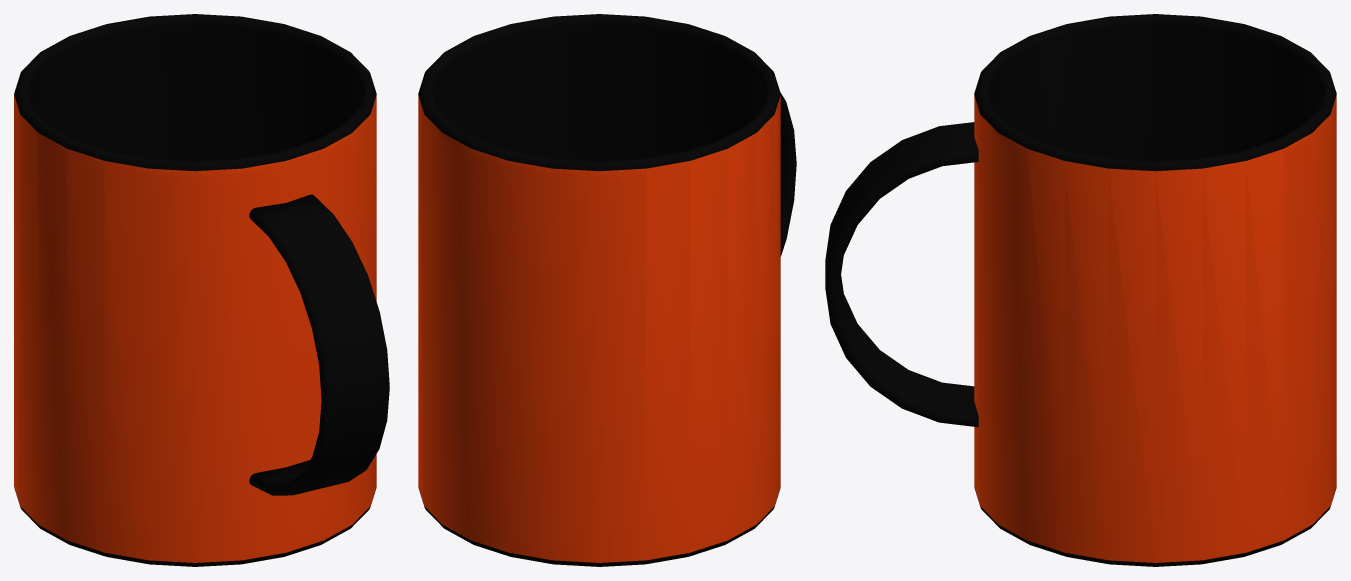
Rendered from mug_07_origin_gt_7.dae.
3 views of the same model, side by side, from view 1: azimuth 30°, elevation 25°; view 2: azimuth 150°, elevation 25°; view 3: azimuth 270°, elevation 25° (orthographic).
Parts seen in each view (by area): view 1: group_2 (×3), group_1; view 2: group_2 (×3), group_1; view 3: group_2 (×3), group_1.
Boxes of the visible parts, x1=… form: group_2 (×3): x1=14, y1=14, x2=376, y2=566; group_1: x1=249, y1=194, x2=389, y2=495; group_2 (×3): x1=418, y1=14, x2=780, y2=566; group_1: x1=780, y1=92, x2=796, y2=256; group_2 (×3): x1=974, y1=14, x2=1336, y2=566; group_1: x1=825, y1=122, x2=978, y2=427.
Bounding box in the file's own units: 3.25 × 4.59 × 4.
